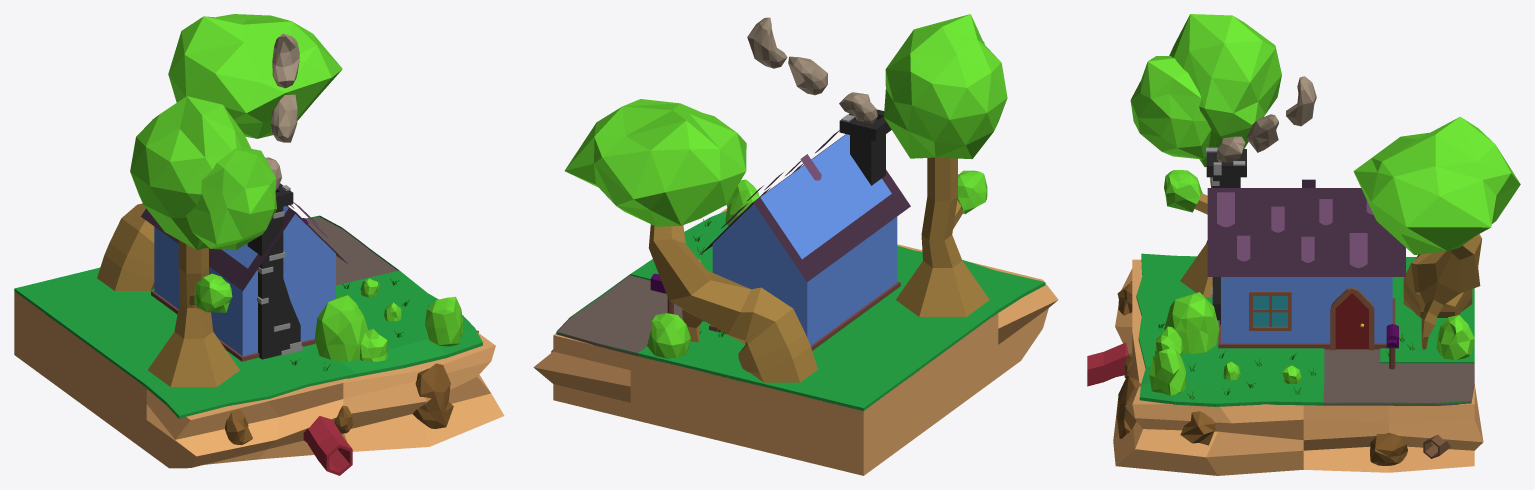
File: LowpolyHouseIsland.gltf
3 renders of one model, left to right at view 1: azimuth 30°, elevation 25°; view 2: azimuth 150°, elevation 25°; view 3: azimuth 270°, elevation 25°, orthographic. The views are drawn at different scales.
Visible parts, largest first — view 1: BottomGround, TopGround, Icosphere, 1BushBig, Body, 1BushSmall, 1Trunk, Chimney, 2Trunk, Bush.001, Roof, Rock.002 (+8 smaller); view 2: BottomGround, TopGround, Body, Icosphere, 1BushBig, 2Trunk, 1Trunk, Roof, Chimney, Bush.002, Smog.002, Smog.001 (+4 smaller); view 3: BottomGround, TopGround, Icosphere, Roof, 1BushBig, Body, 1BushSmall, 2Trunk, Bush.001, Door, Bush, Bush.002 (+17 smaller).
Part boxes in pixels (x1,y1,x2,y2): BottomGround: (14,291,504,468); TopGround: (14,215,482,418); Icosphere: (168,14,342,138); 1BushBig: (130,96,251,249); Body: (154,206,335,356); 1BushSmall: (186,147,276,250); 1Trunk: (148,240,239,386); Chimney: (247,183,300,359); 2Trunk: (97,203,154,290); Bush.001: (314,295,367,361); Roof: (141,206,348,290); Rock.002: (413,363,453,428); BottomGround: (533,208,1058,475); TopGround: (556,211,1045,410); Body: (712,134,897,345); Icosphere: (564,99,746,226); 1BushBig: (884,14,1007,159); 2Trunk: (648,224,817,382); 1Trunk: (896,157,989,316); Roof: (700,134,910,281); Chimney: (839,109,891,185); Bush.002: (647,313,690,358); Smog.002: (747,17,787,68); Smog.001: (788,56,827,95); BottomGround: (1113,259,1483,475); TopGround: (1136,253,1474,406); Icosphere: (1353,116,1520,254); Roof: (1207,188,1405,276); 1BushBig: (1169,14,1281,166); Body: (1221,277,1392,343); 1BushSmall: (1130,56,1211,159); 2Trunk: (1403,234,1481,349); Bush.001: (1164,292,1219,353); Door: (1335,293,1368,349); Bush: (1149,348,1186,395); Bush.002: (1436,315,1474,359).
Size of what is drawn, in the model's own units: 11.11 by 11 by 12.62.
